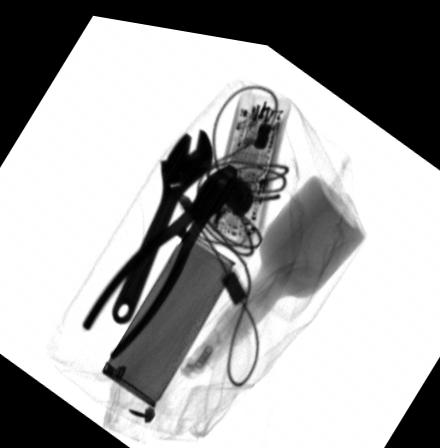Pliers: (80, 153, 239, 353)
Wrench: (113, 119, 214, 322)
